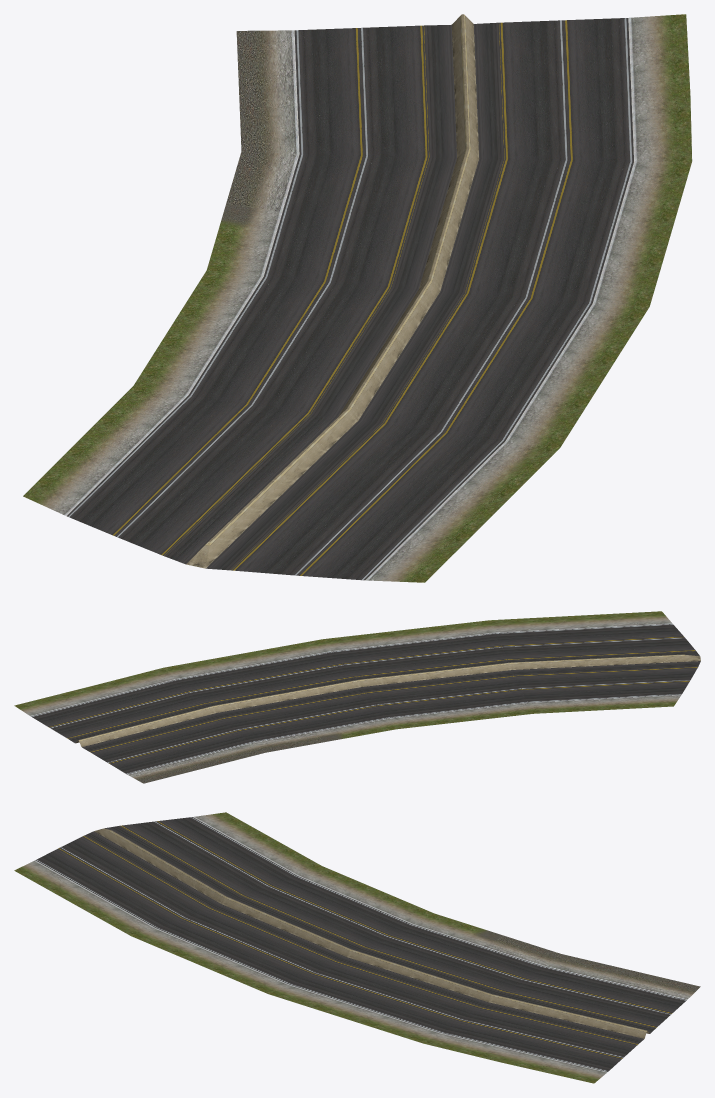
Rendered from vgssspagjun06b.obj.
3 renders of one model, top to bottom at view 1: azimuth 30°, elevation 25°; view 2: azimuth 150°, elevation 25°; view 3: azimuth 270°, elevation 25°, orthographic. The views are drawn at different scales.
Parts seen in each view (by area): view 1: vgsSspagjun06b; view 2: vgsSspagjun06b; view 3: vgsSspagjun06b.
Part boxes in pixels (box(x1,y1,x2,y2)): vgsSspagjun06b: box(23, 14, 692, 582); vgsSspagjun06b: box(14, 611, 700, 783); vgsSspagjun06b: box(14, 812, 700, 1083).
Bounding box in the file's own units: 102 × 0.9823 × 109.
7 materials, 7 textured.
